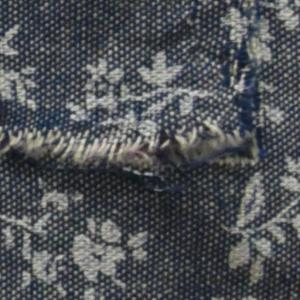Damage: (1, 1, 278, 199)
